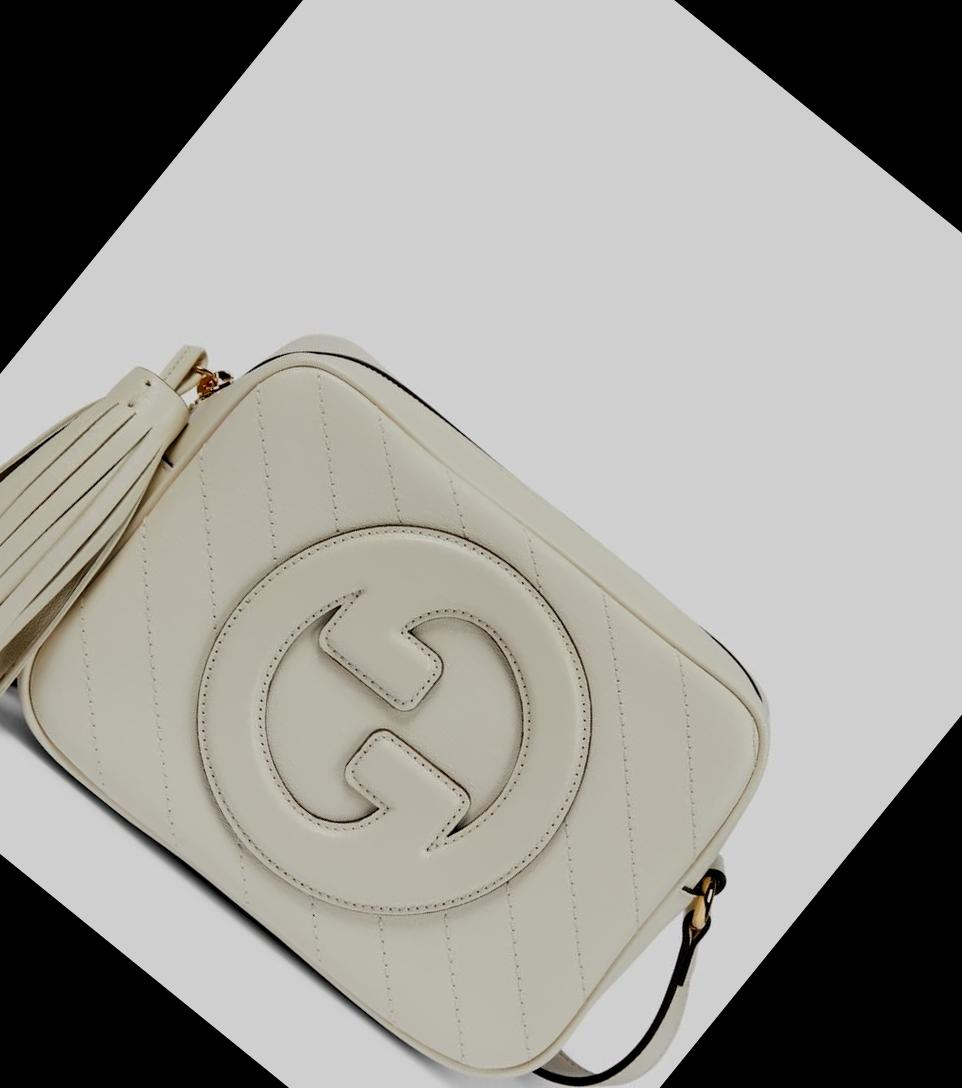GUCCI: (120, 445, 672, 998)
